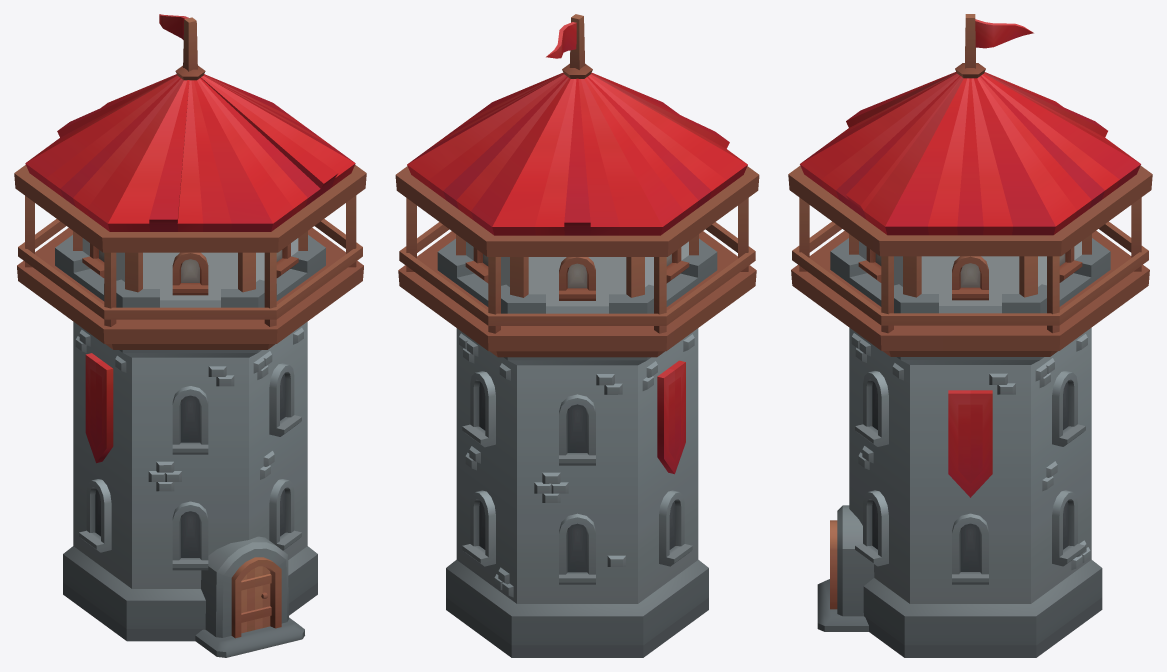
File: tower-b-red.glb
3 renders of one model, left to right at view 1: azimuth 30°, elevation 25°; view 2: azimuth 150°, elevation 25°; view 3: azimuth 270°, elevation 25°, orthographic. The views are drawn at different scales.
Parts seen in each view (by area): view 1: building_tower_B_red; view 2: building_tower_B_red; view 3: building_tower_B_red.
Part boxes in pixels (x1,y1,x2,y2): building_tower_B_red: (14, 14, 366, 657); building_tower_B_red: (395, 14, 759, 657); building_tower_B_red: (788, 14, 1152, 657).
Size of the model in its own units: 1.2 by 2.49 by 1.38.
1 material, 1 textured.
